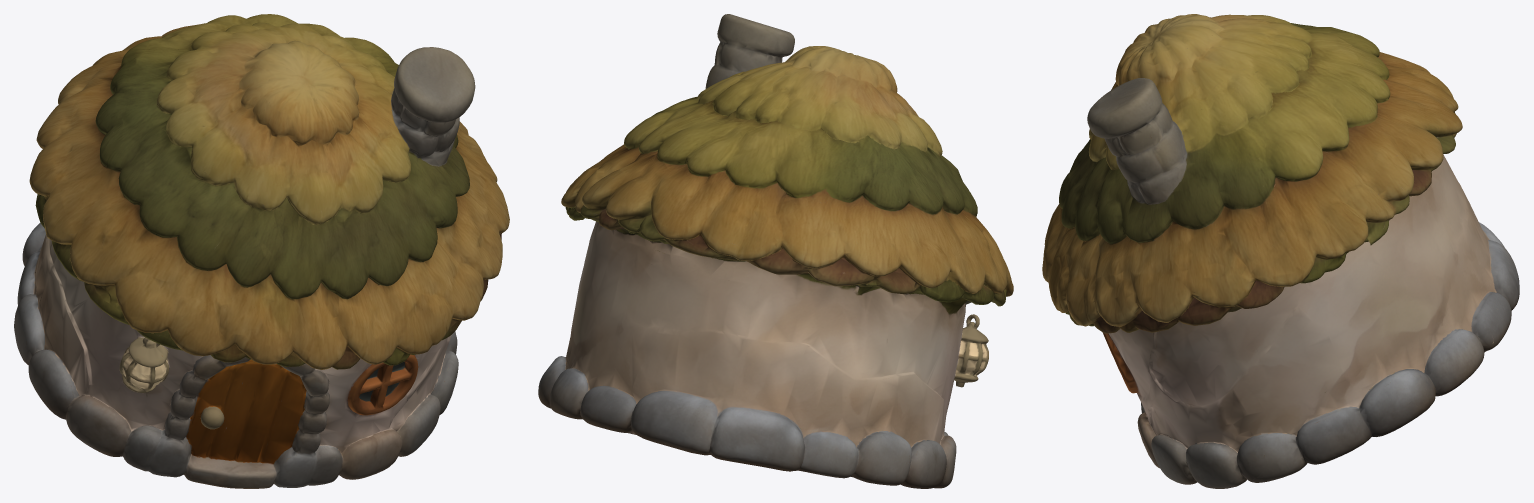
The model's file is cabin.glb.
3 views of the same model, side by side, from view 1: azimuth 30°, elevation 25°; view 2: azimuth 150°, elevation 25°; view 3: azimuth 270°, elevation 25° (orthographic). The views are drawn at different scales.
Bounding box in the file's own units: 0.8614 × 0.8446 × 0.8875.
1 material, 1 textured.
